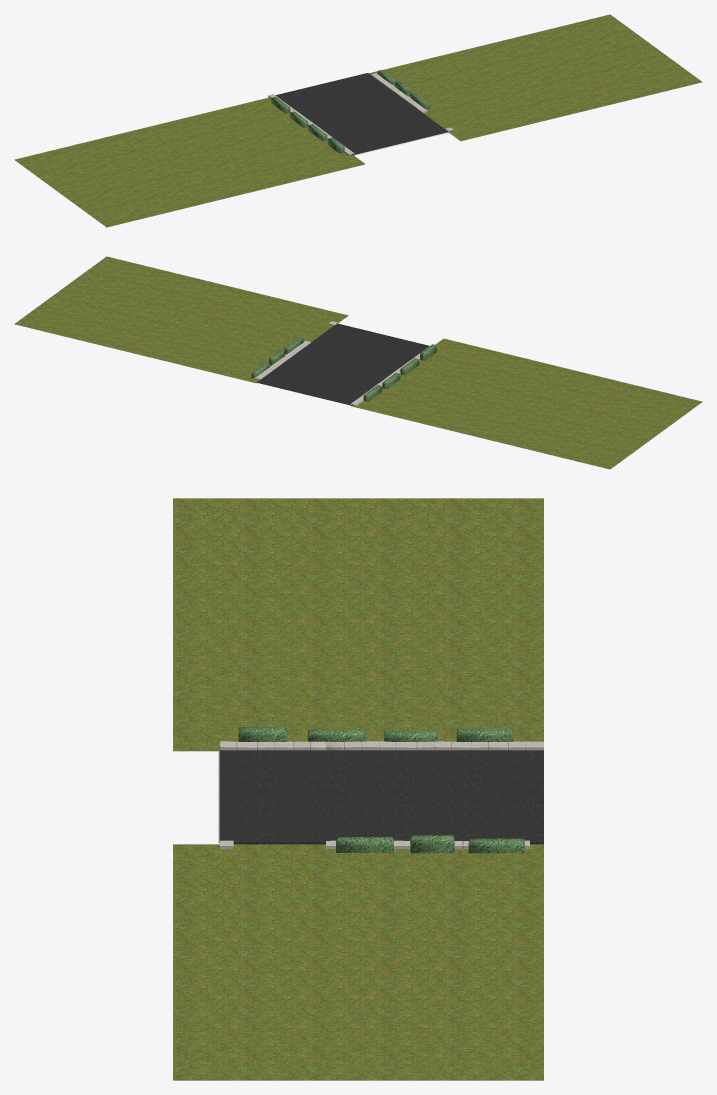
The model's file is FrontClose.fbx.
The picture shows the model from 3 angles, top to bottom: view 1: azimuth 30°, elevation 25°; view 2: azimuth 150°, elevation 25°; view 3: azimuth 270°, elevation 25°; orthographic projection. The views are drawn at different scales.
Parts seen in each view (by area): view 1: FrontClose; view 2: FrontClose; view 3: FrontClose.
Boxes of the visible parts, box(x1,y1,x2,y2) form: FrontClose: box(14, 14, 702, 227); FrontClose: box(14, 256, 702, 469); FrontClose: box(173, 498, 543, 1080).
Size of the model in its own units: 4027 by 56.6 by 1085.
